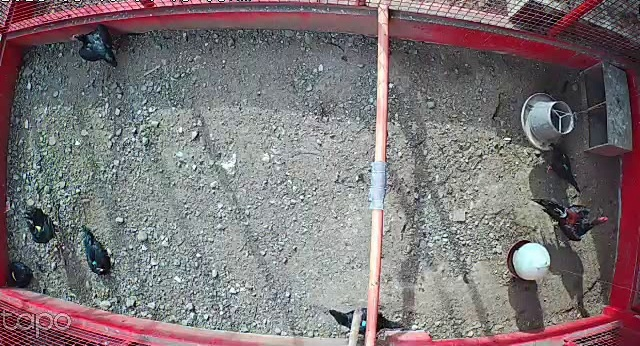Chicken: (324, 305, 409, 339), (69, 21, 124, 71), (77, 224, 119, 278), (538, 142, 582, 193), (24, 204, 60, 249), (4, 258, 40, 289)
Rooster: (532, 194, 610, 244)
Saddle_Color_Blue: (362, 322, 367, 327)
Saddle_Color_Yellow: (35, 226, 43, 233)
